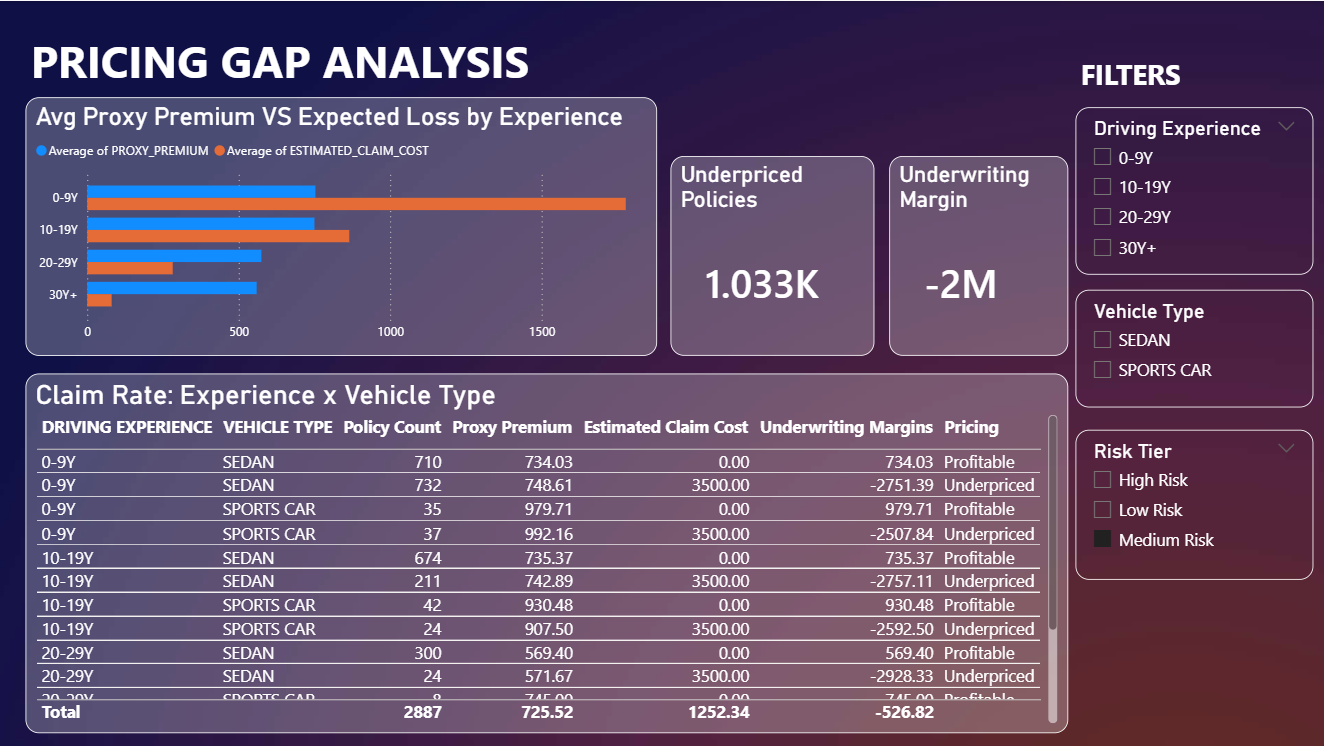

What the dashboard file says about the page in this screenshot:
{"tool":"powerbi","page":{"name":"Pricing Gap Analysis","canvas":[1280,720],"ordinal":2},"visuals":[{"type":"slicer","title":"AGE","fields":{"Values":["car_insurance_clean.DRIVING_EXPERIENCE"]},"box":[1040,102.5,229.2,161.7],"z":0},{"type":"textbox","box":[26.5,22.9,792.6,70],"z":1000},{"type":"textbox","box":[1040,47.1,177.3,45.8],"z":2000},{"type":"clusteredBarChart","title":"Avg Proxy Premium VS Expected Loss by Experience","fields":{"Category":["car_insurance_clean.DRIVING_EXPERIENCE"],"Y":["Avg(car_insurance_clean.PROXY_PREMIUM)","Avg(car_insurance_clean.ESTIMATED_CLAIM_COST)"]},"box":[26.5,92.9,609.3,249.7],"z":3000},{"type":"cardVisual","title":"Underwriting Margin","fields":{"Data":["Sum(car_insurance_clean.UNDERWRITING_MARGIN)"]},"box":[860.2,149.6,172.5,193],"z":4000},{"type":"tableEx","title":"Claim Rate: Experience x Vehicle Type","fields":{"Values":["car_insurance_clean.DRIVING_EXPERIENCE","car_insurance_clean.VEHICLE_TYPE","CountNonNull(car_insurance_clean.ID)","Avg(car_insurance_clean.PROXY_PREMIUM)","Avg(car_insurance_clean.ESTIMATED_CLAIM_COST)","Avg(car_insurance_clean.UNDERWRITING_MARGIN)","car_insurance_clean.PRICING_STATUS"]},"box":[26.5,359.5,1006.2,347.5],"z":5000},{"type":"cardVisual","title":"Underpriced Policies","fields":{"Data":["CountNonNull(car_insurance_clean.PRICING_STATUS)"]},"box":[649.1,149.6,196.6,193],"z":6000},{"type":"slicer","title":"AGE","fields":{"Values":["car_insurance_clean.VEHICLE_TYPE"]},"box":[1040,278.7,229.2,113.4],"z":7000},{"type":"slicer","title":"AGE","fields":{"Values":["car_insurance_clean.RISK_TIER"]},"box":[1040,413.8,229.2,144.8],"z":8000}]}

Visuals, with their boxes in screenshot pixels (x1, y1, x2, y2), scaled from the page's 1280x720 canvas onto the 1324x746 screenshot:
"AGE" slicer: 1076,106,1313,274
textbox: 27,24,847,96
textbox: 1076,49,1259,96
"Avg Proxy Premium VS Expected Loss by Experience" clusteredBarChart: 27,96,658,355
"Underwriting Margin" cardVisual: 890,155,1068,355
"Claim Rate: Experience x Vehicle Type" tableEx: 27,372,1068,733
"Underpriced Policies" cardVisual: 671,155,875,355
"AGE" slicer: 1076,289,1313,406
"AGE" slicer: 1076,429,1313,579
